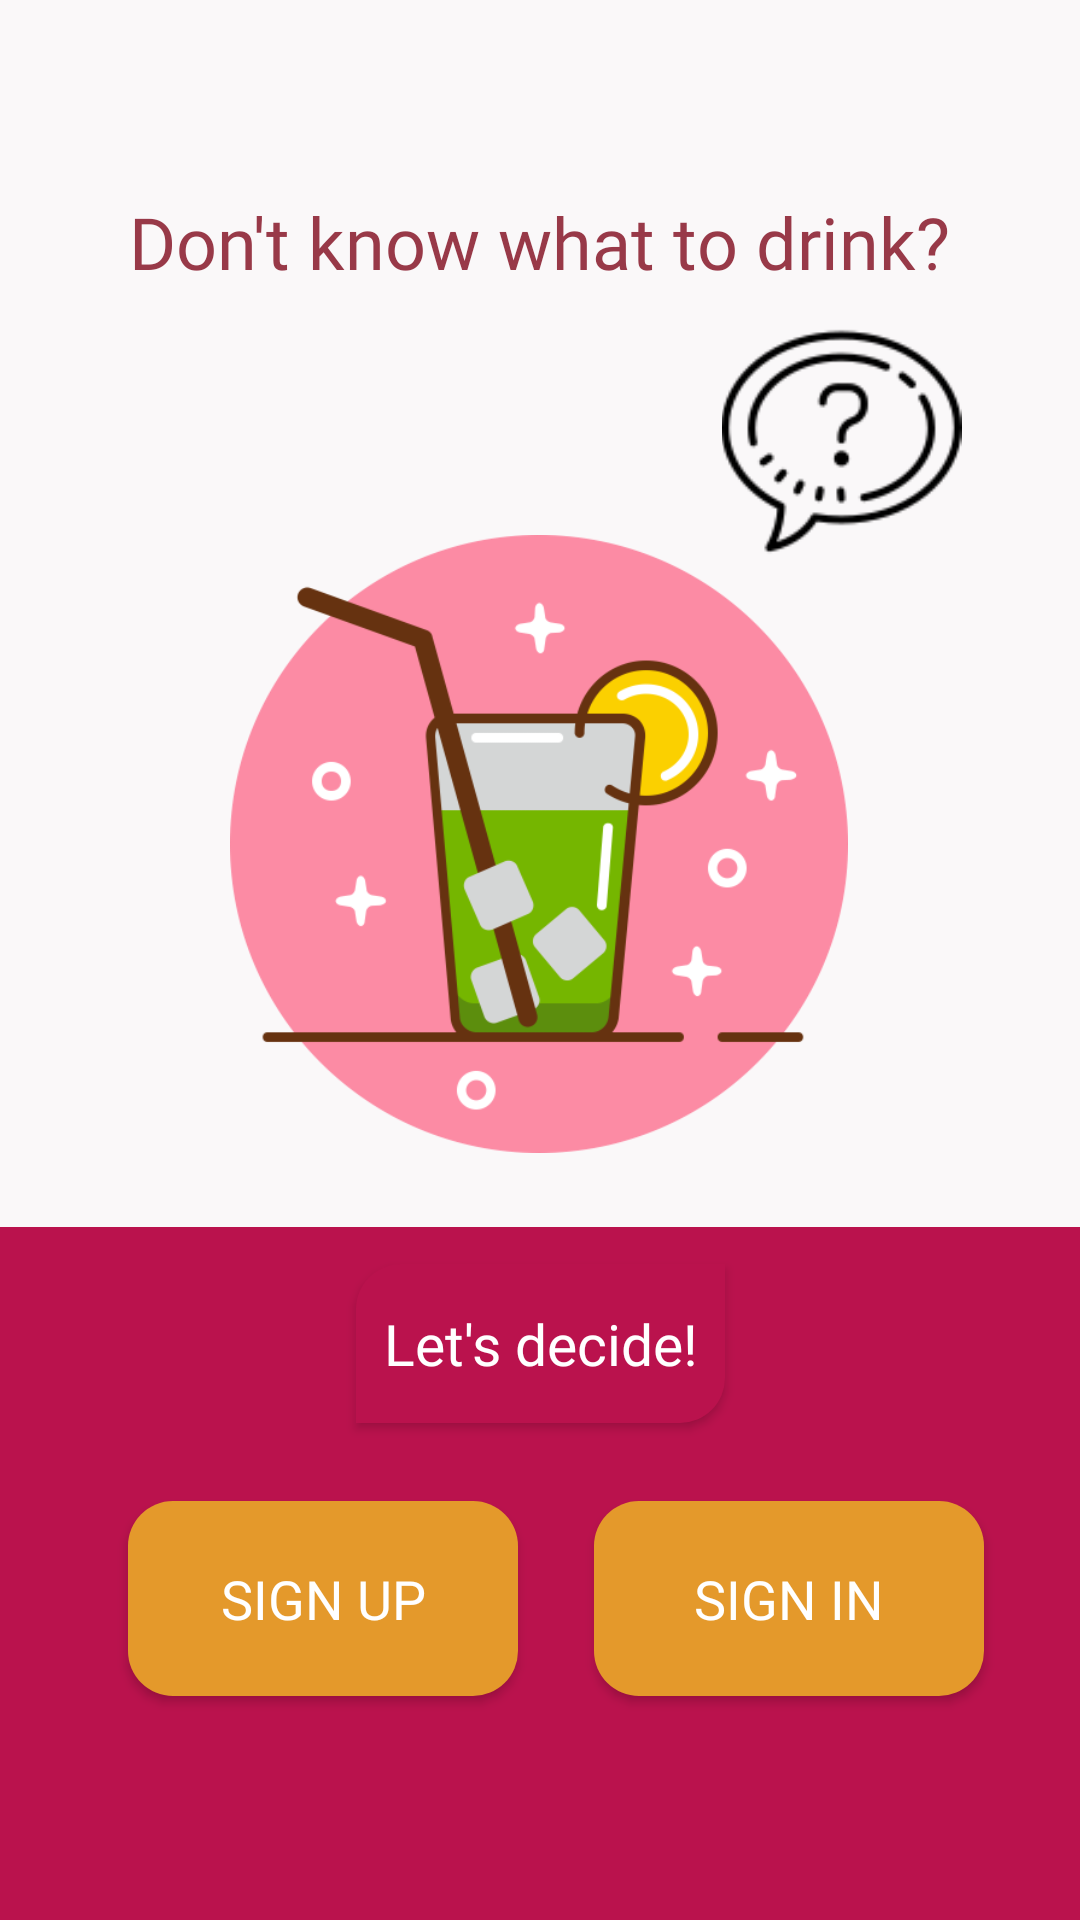

Icon click points for this 1080px×1920px phone screenshot, format (x=x, y=y):
question mark: (x=842, y=441)
